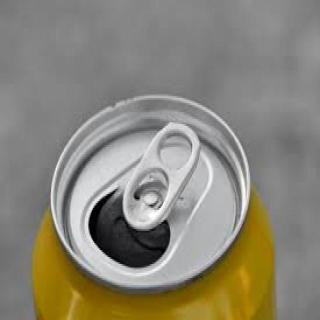Anorganik: (30, 87, 274, 320)
